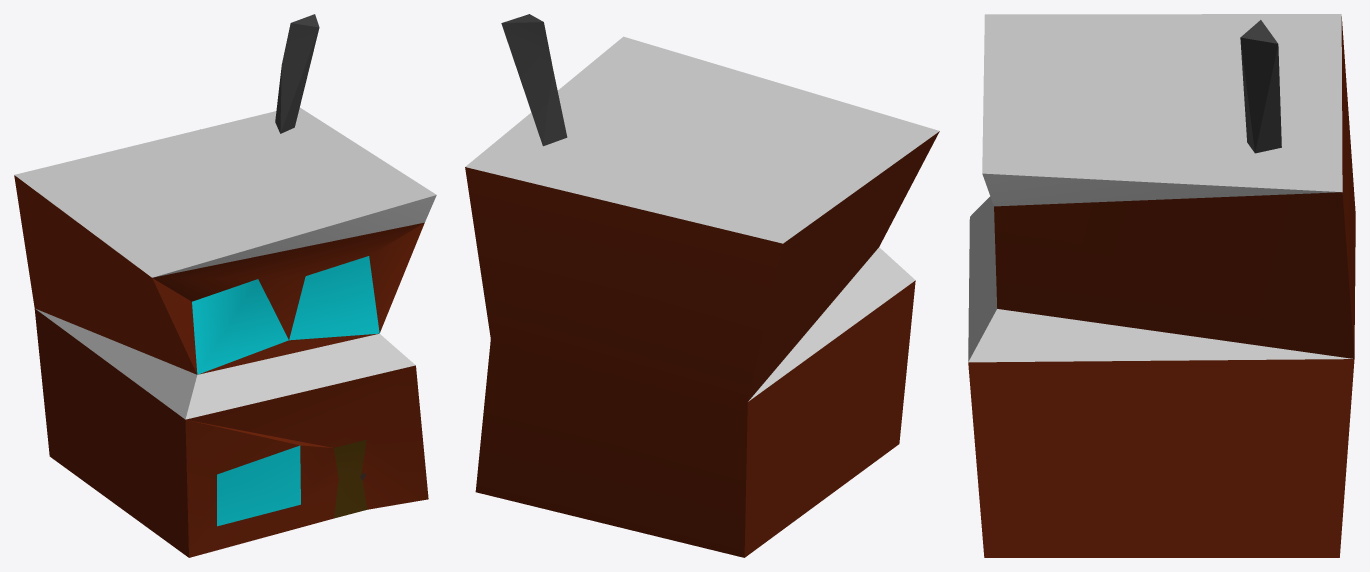
File: PredioPequeno-VermelhoEscuroLOD2.fbx
3 renders of one model, left to right at view 1: azimuth 30°, elevation 25°; view 2: azimuth 150°, elevation 25°; view 3: azimuth 270°, elevation 25°, orthographic. The views are drawn at different scales.
Visible parts, largest first — view 1: Predio2AndaresLOD2; view 2: Predio2AndaresLOD2; view 3: Predio2AndaresLOD2.
Part boxes in pixels (box(x1,y1,x2,y2)): Predio2AndaresLOD2: box(14, 14, 436, 557); Predio2AndaresLOD2: box(465, 14, 939, 557); Predio2AndaresLOD2: box(968, 14, 1355, 557).
Bounding box in the file's own units: 718 × 975 × 660.
